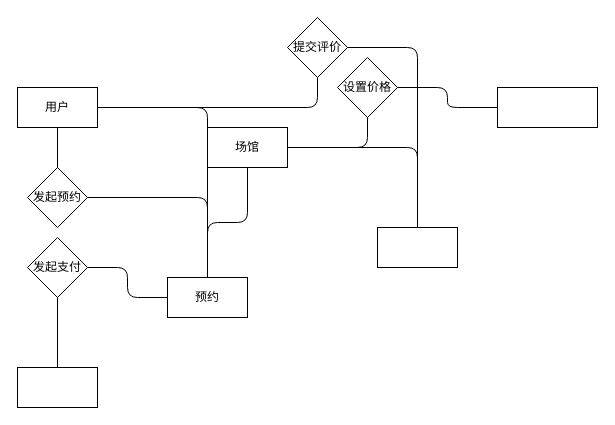
The diagram is 615 pixels wide and 425 high, and some of its shapes have lost their labels. Each missing label, with the centre of its shape:
"支付" goes at pixel 57 387.
"时间段价格" goes at pixel 547 107.
"评价" goes at pixel 417 247.
